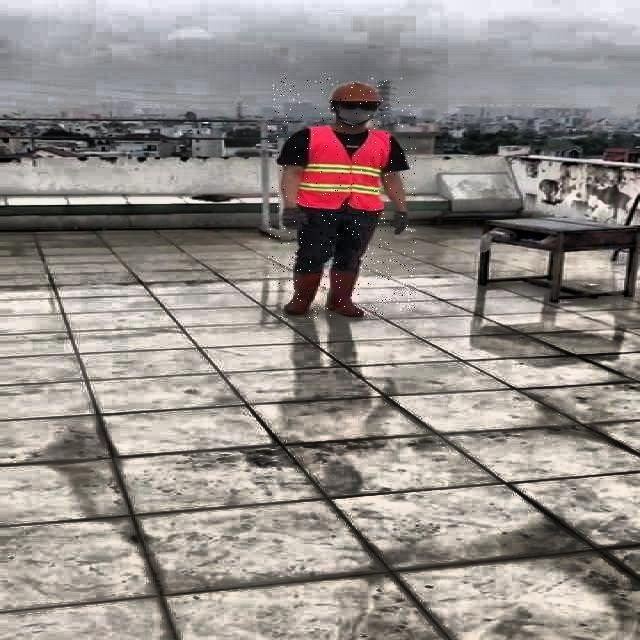safety_helmet: (328, 80, 382, 104)
safety_jacket: (302, 126, 388, 213)
